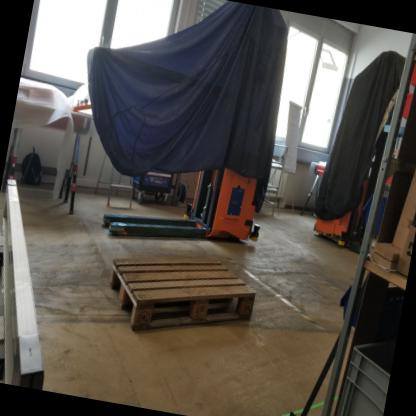BoxFace: (107, 250, 259, 338)
